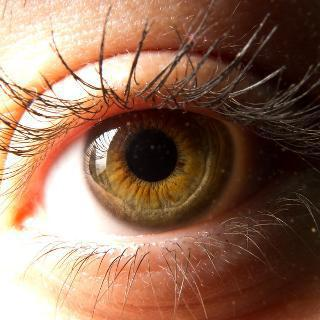iris: (83, 77, 235, 229)
